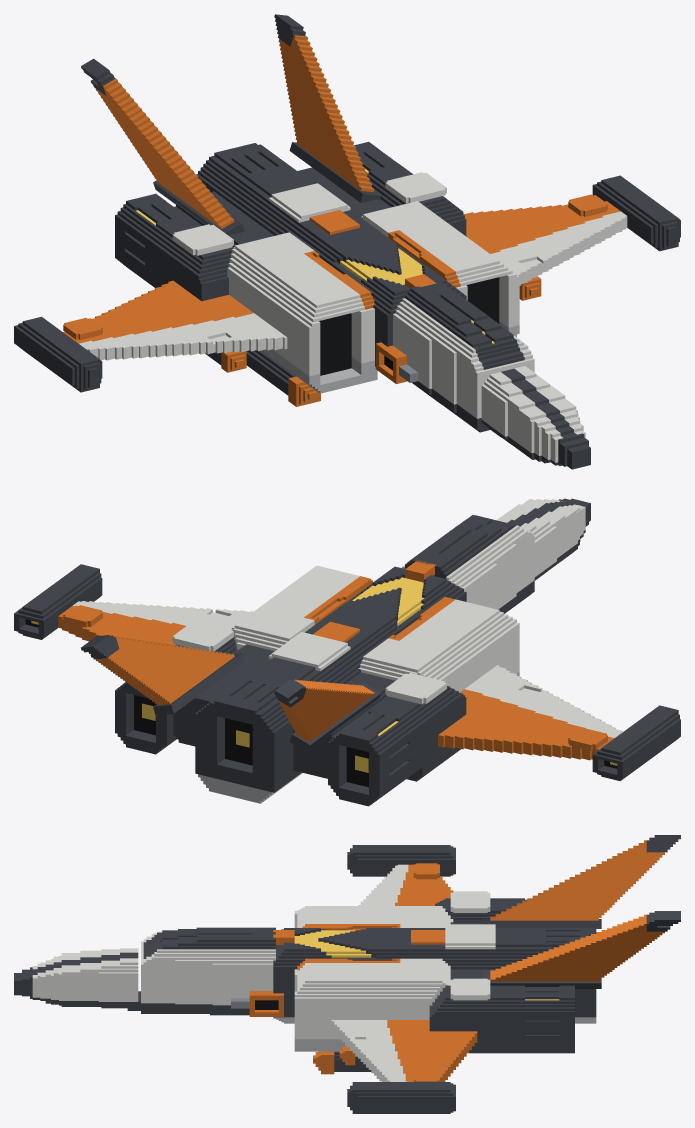
Rendered from FalcoJet_r2_20261106.glb.
The picture shows the model from 3 angles, top to bottom: view 1: azimuth 30°, elevation 25°; view 2: azimuth 150°, elevation 25°; view 3: azimuth 270°, elevation 25°; orthographic projection. The views are drawn at different scales.
Visible parts, largest first — view 1: JetBody, JetWingR, JetWingL, JetCockpit, JetTailL, JetTailR; view 2: JetBody, JetWingR, JetWingL, JetCockpit, JetTailL, JetTailR; view 3: JetBody, JetCockpit, JetWingL, JetTailR, JetTailL, JetWingR.
Boxes of the visible parts, x1=… form: JetBody: x1=115, y1=141, x2=590, y2=469; JetWingR: x1=14, y1=280, x2=287, y2=392; JetWingL: x1=463, y1=175, x2=680, y2=300; JetCockpit: x1=393, y1=281, x2=534, y2=432; JetTailL: x1=274, y1=14, x2=380, y2=202; JetTailR: x1=81, y1=58, x2=244, y2=235; JetBody: x1=115, y1=498, x2=590, y2=806; JetWingR: x1=438, y1=665, x2=680, y2=781; JetWingL: x1=14, y1=564, x2=253, y2=645; JetCockpit: x1=401, y1=514, x2=534, y2=613; JetTailL: x1=81, y1=635, x2=244, y2=715; JetTailR: x1=274, y1=679, x2=380, y2=752; JetBody: x1=14, y1=891, x2=596, y2=1074; JetCockpit: x1=141, y1=927, x2=275, y2=1015; JetWingL: x1=331, y1=1020, x2=477, y2=1113; JetTailR: x1=482, y1=835, x2=680, y2=928; JetTailL: x1=482, y1=911, x2=680, y2=988; JetWingR: x1=347, y1=845, x2=455, y2=905.
Size of the model in its own units: 11.15 by 3.3 by 12.6.
Materials: 1 (1 with a texture image).
